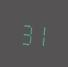one: (33, 19, 46, 48)
three: (19, 18, 32, 46)
